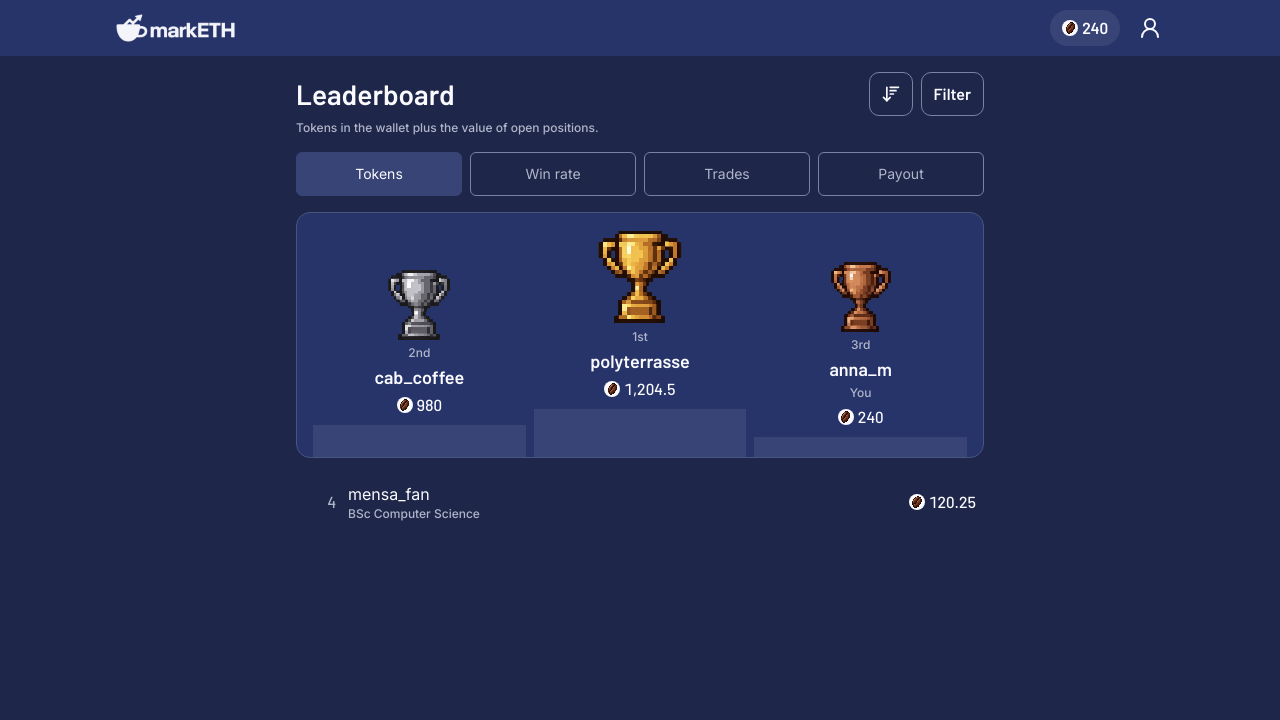
the statistics of a player › a podium place opens the statistics of the player who stands on it
Check: the text "polyterrasse" is shown, box [590, 350, 690, 372]
Second place stands at the left, and is still the second of the list.
Click the button "2nd cab_coffee 980": (419, 363) [313, 269, 526, 457]
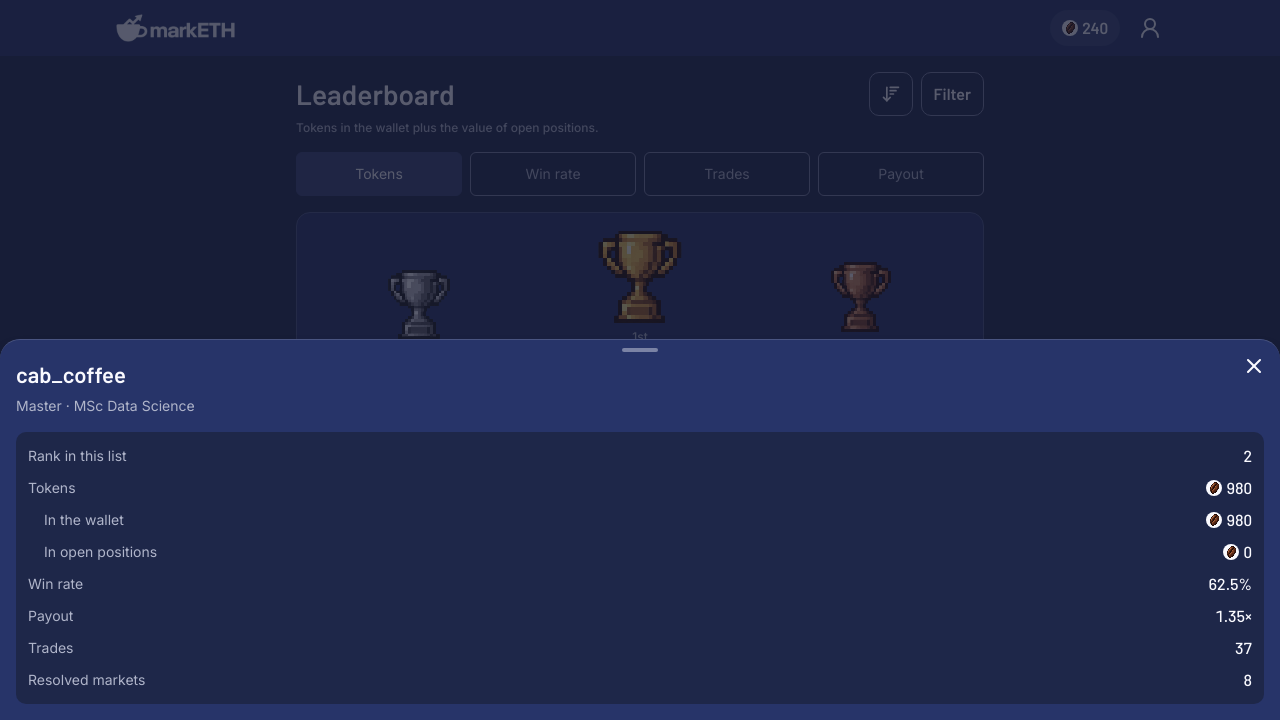
Check: the text "2" is shown, box [1244, 444, 1252, 468]
